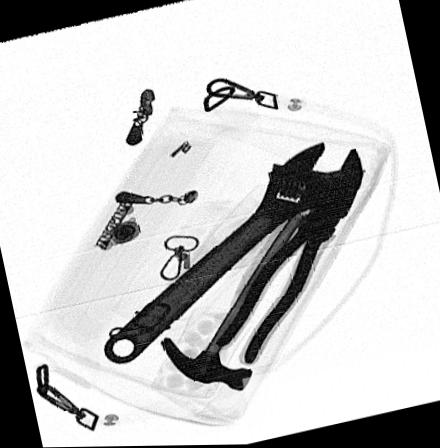Hammer: (158, 215, 305, 390)
Pliers: (217, 201, 345, 370)
Wrench: (104, 142, 364, 365)
